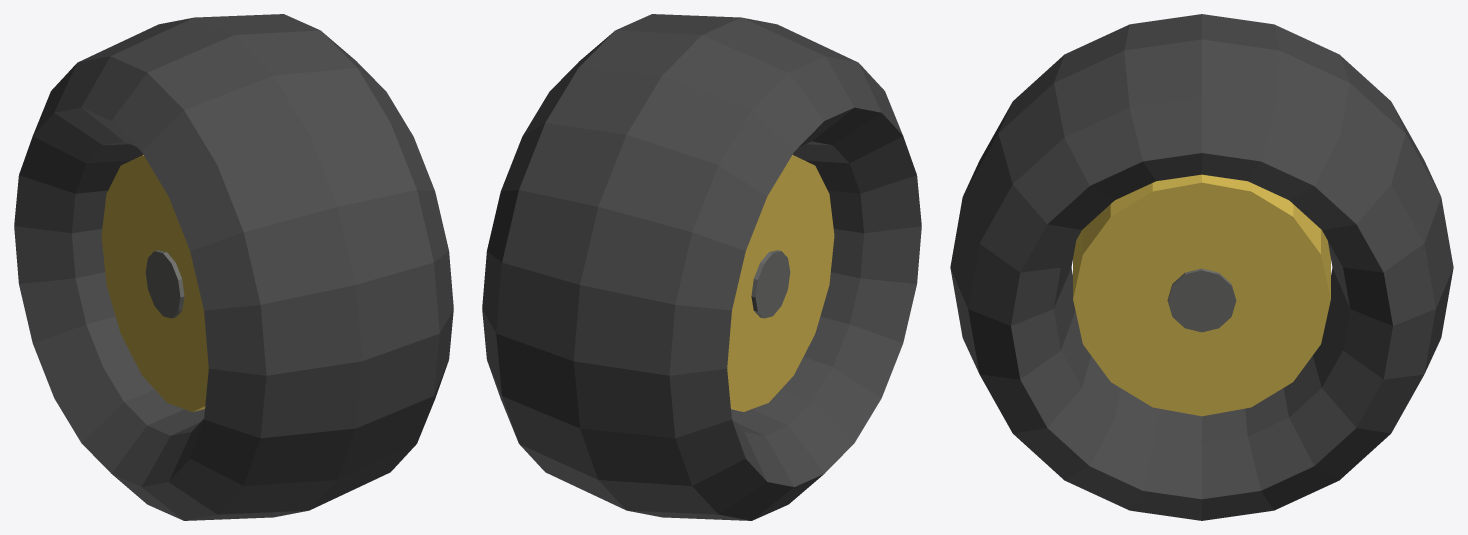
The model's file is jordan_197_wheel_rear.glb.
3 renders of one model, left to right at view 1: azimuth 30°, elevation 25°; view 2: azimuth 150°, elevation 25°; view 3: azimuth 270°, elevation 25°, orthographic.
Visible parts, largest first — view 1: Jordan197_LOD0_Historical.glb; view 2: Jordan197_LOD0_Historical.glb; view 3: Jordan197_LOD0_Historical.glb.
Boxes of the visible parts, <box> form: Jordan197_LOD0_Historical.glb: <box>14,14,453,520</box>; Jordan197_LOD0_Historical.glb: <box>482,14,921,520</box>; Jordan197_LOD0_Historical.glb: <box>950,14,1453,520</box>.
Bounding box in the file's own units: 0.3576 × 0.648 × 0.648.
1 material, 1 textured.
